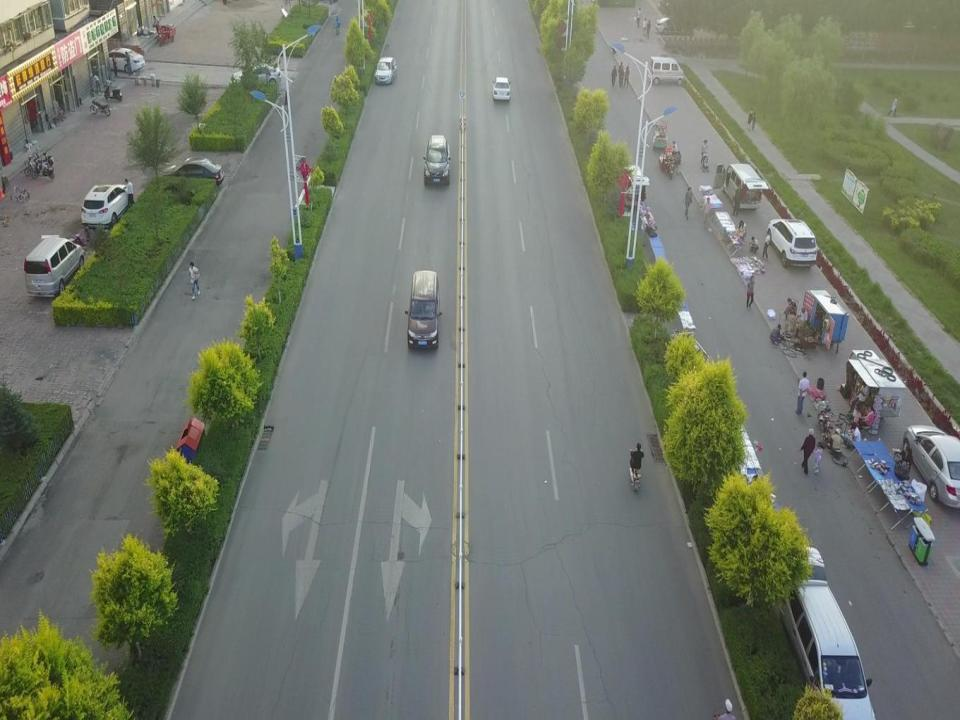car: (903, 424, 960, 507), (767, 219, 817, 268), (158, 156, 224, 192), (82, 184, 128, 228), (94, 47, 145, 73), (424, 134, 450, 182), (234, 64, 280, 87), (655, 16, 695, 34), (375, 56, 396, 84), (493, 77, 511, 101), (30, 162, 55, 179)
van: (781, 538, 876, 720), (23, 237, 86, 296), (405, 270, 442, 347), (714, 163, 768, 211), (615, 161, 649, 207), (647, 56, 684, 86)
